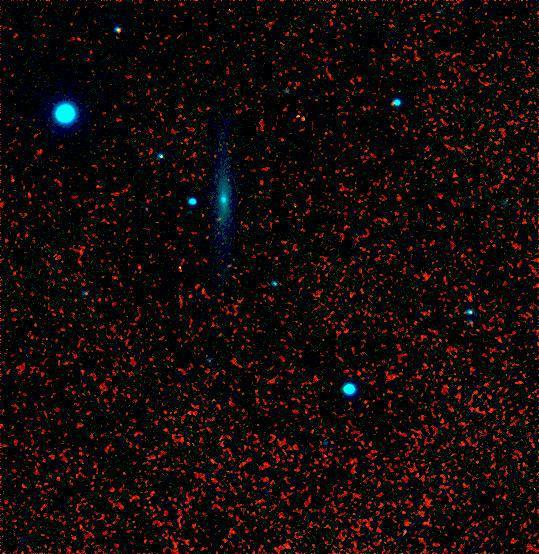star: (205, 204, 235, 234)
